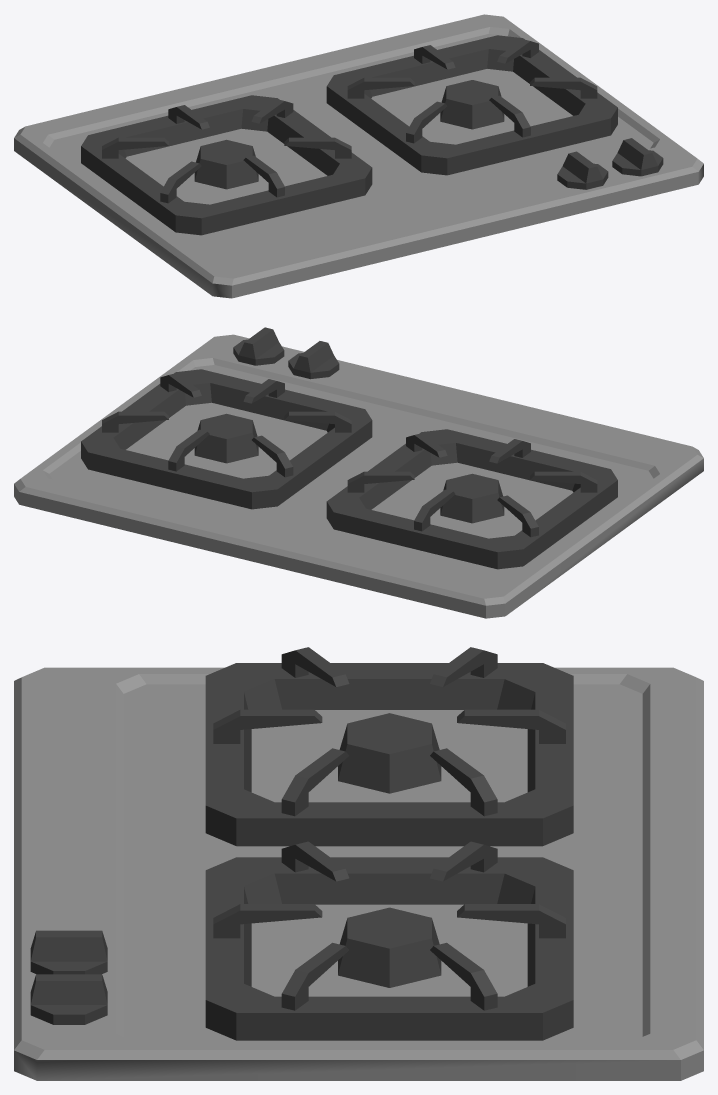
Rendered from House_Gas_Stove.fbx.
The picture shows the model from 3 angles, top to bottom: view 1: azimuth 30°, elevation 25°; view 2: azimuth 150°, elevation 25°; view 3: azimuth 270°, elevation 25°; orthographic projection. The views are drawn at different scales.
Visible parts, largest first — view 1: stove01_3, stove01_3.002, stove01_3.001; view 2: stove01_3, stove01_3.001, stove01_3.002; view 3: stove01_3, stove01_3.002, stove01_3.001.
Boxes of the visible parts, x1,y1,x2,y2 form: stove01_3: [14, 14, 703, 298]; stove01_3.002: [612, 138, 663, 176]; stove01_3.001: [557, 151, 608, 189]; stove01_3: [14, 334, 703, 618]; stove01_3.001: [288, 341, 339, 379]; stove01_3.002: [233, 327, 284, 365]; stove01_3: [14, 647, 703, 1080]; stove01_3.002: [30, 974, 107, 1024]; stove01_3.001: [30, 930, 107, 974].
Bounding box in the file's own units: 60 × 5.5 × 45.
